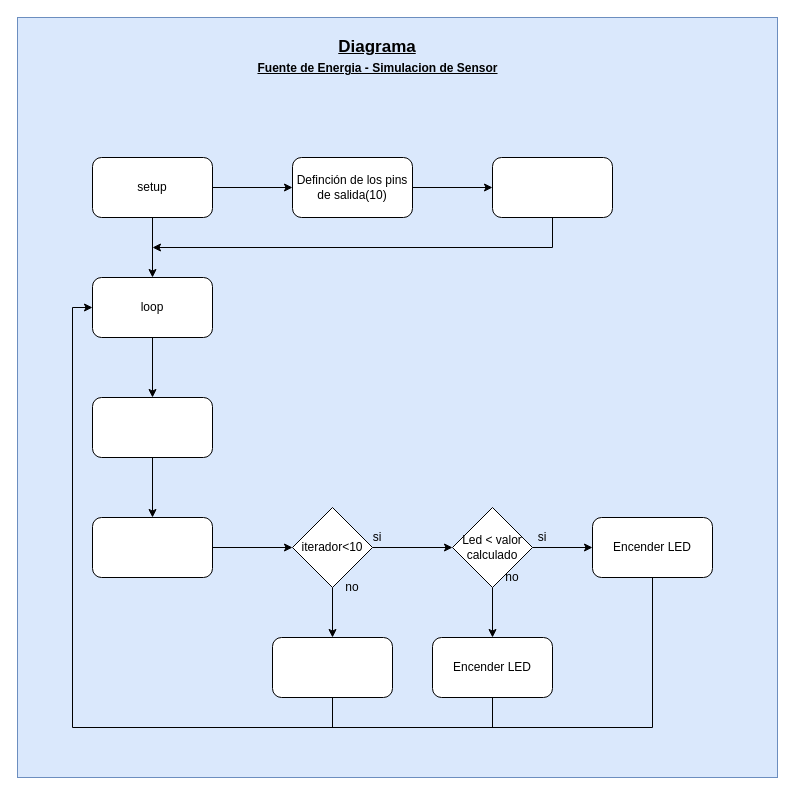
The diagram is 795 pixels wide and 795 high, and some of its shapes have lost their labels. Here are the shapes that lost their labels. From the top down, the centre of each, then its label:
At point 552,187: "Incializo el puerto".
At point 152,427: "lectura".
At point 152,547: "calculo de los leds a encender".
At point 332,667: "Impresión del voltaje por consola".
